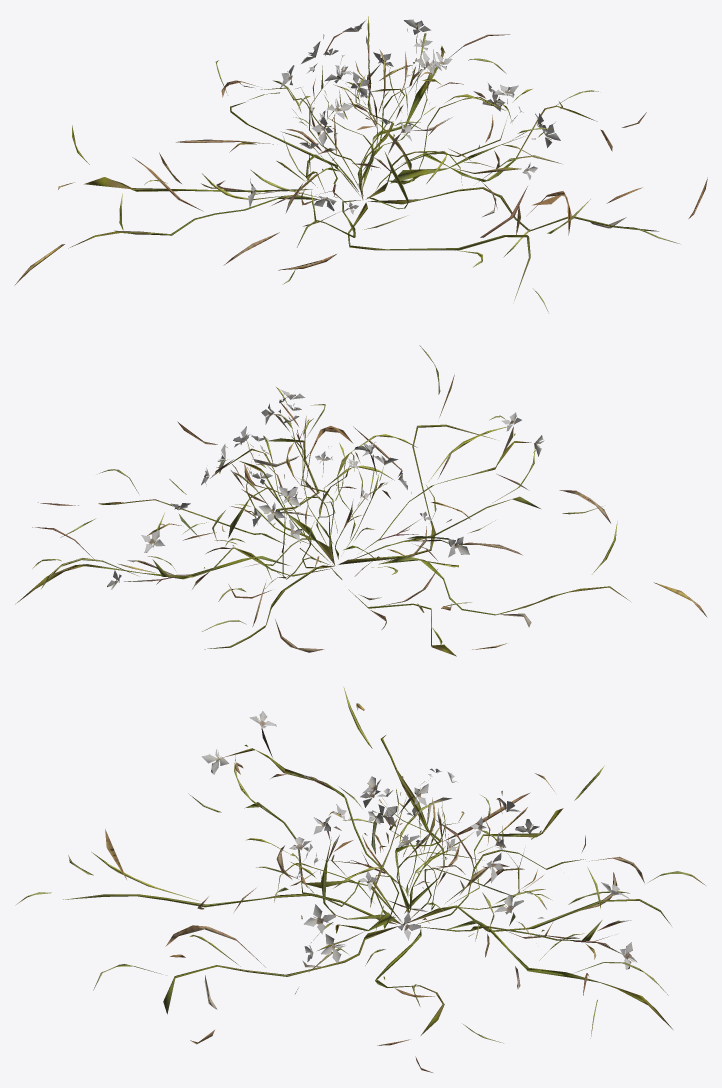
Rendered from wildflowers.glb.
The picture shows the model from 3 angles, top to bottom: view 1: azimuth 30°, elevation 25°; view 2: azimuth 150°, elevation 25°; view 3: azimuth 270°, elevation 25°; orthographic projection. The views are drawn at different scales.
Visible parts, largest first — view 1: flower_heliophila_large; view 2: flower_heliophila_large; view 3: flower_heliophila_large.
Part boxes in pixels (<box>): flower_heliophila_large: <box>14,16,707,311</box>; flower_heliophila_large: <box>15,345,707,656</box>; flower_heliophila_large: <box>15,687,705,1072</box>.
Size of the model in its own units: 0.9951 by 0.2329 by 0.8425.
Materials: 1 (1 with a texture image).
